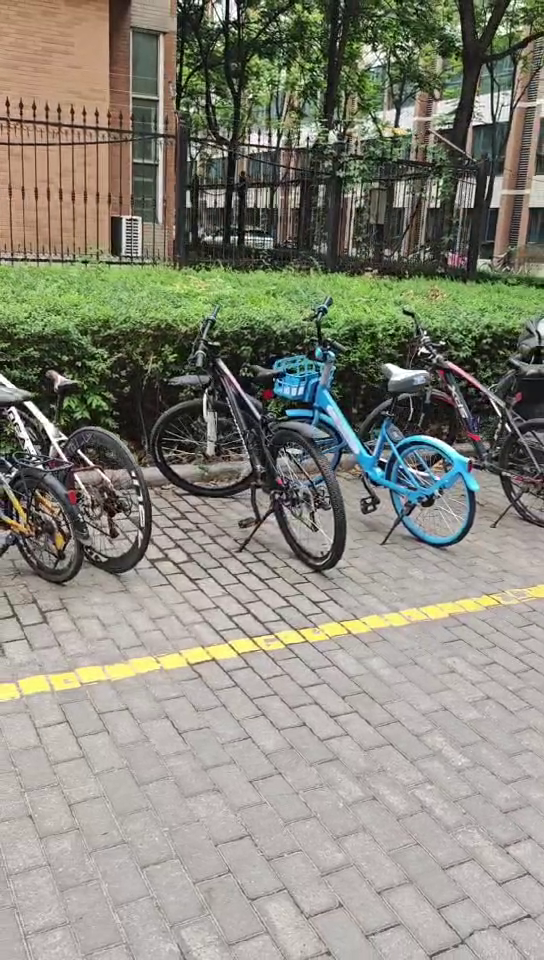others: (144, 308, 332, 592), (390, 301, 544, 557), (11, 325, 159, 582)
shared_bike_haluo: (272, 304, 472, 558)
